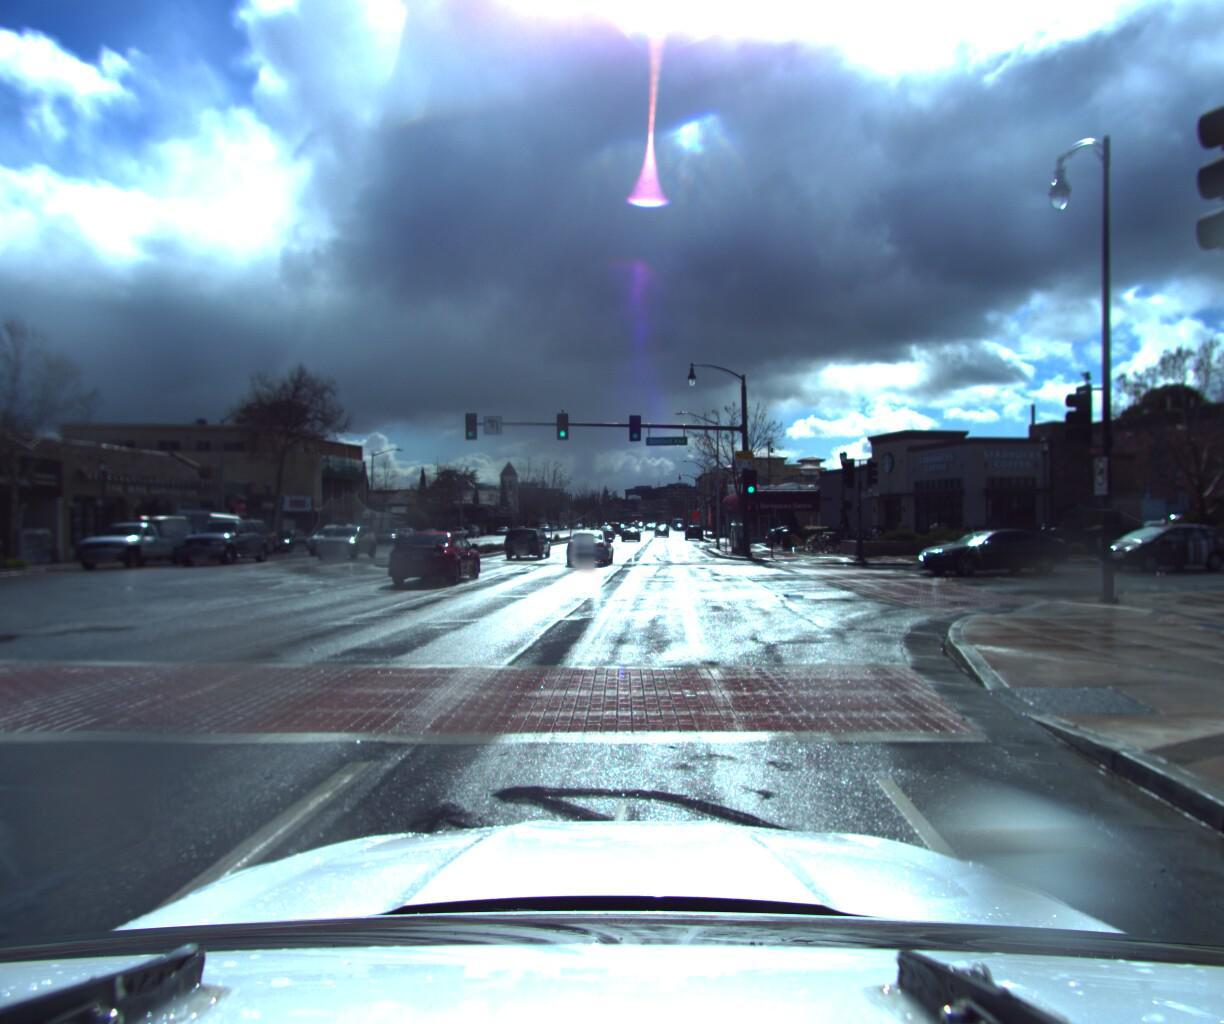bicycle: (800, 525, 839, 549), (802, 525, 841, 549)
car: (903, 521, 1075, 573), (1079, 513, 1224, 567), (69, 515, 206, 573), (386, 526, 486, 585), (171, 517, 279, 567), (304, 520, 387, 558), (561, 523, 616, 563), (301, 522, 368, 553), (503, 525, 554, 559), (256, 526, 314, 553), (0, 529, 6, 629), (374, 527, 409, 544)
other_vehicle: (156, 510, 257, 564)
